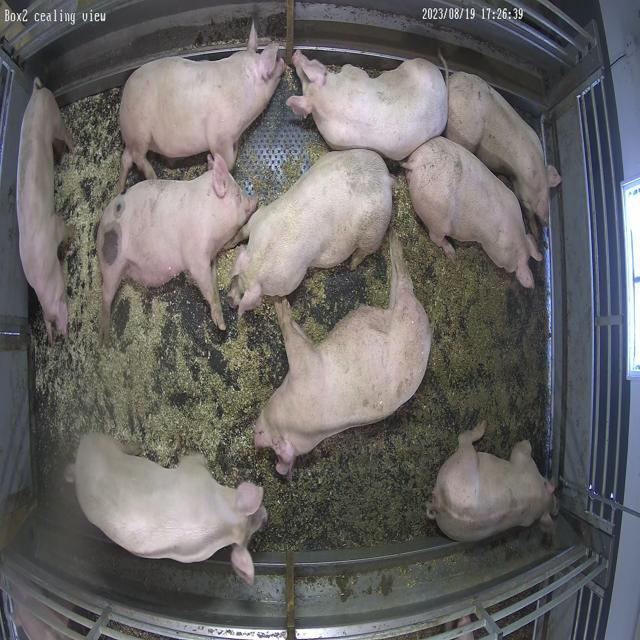Dirt: (253, 176, 548, 550)
Pig: (255, 231, 432, 476), (71, 434, 267, 586), (96, 155, 257, 338), (118, 24, 286, 192), (230, 149, 394, 314), (404, 136, 543, 288), (447, 71, 562, 236), (288, 51, 449, 160)
